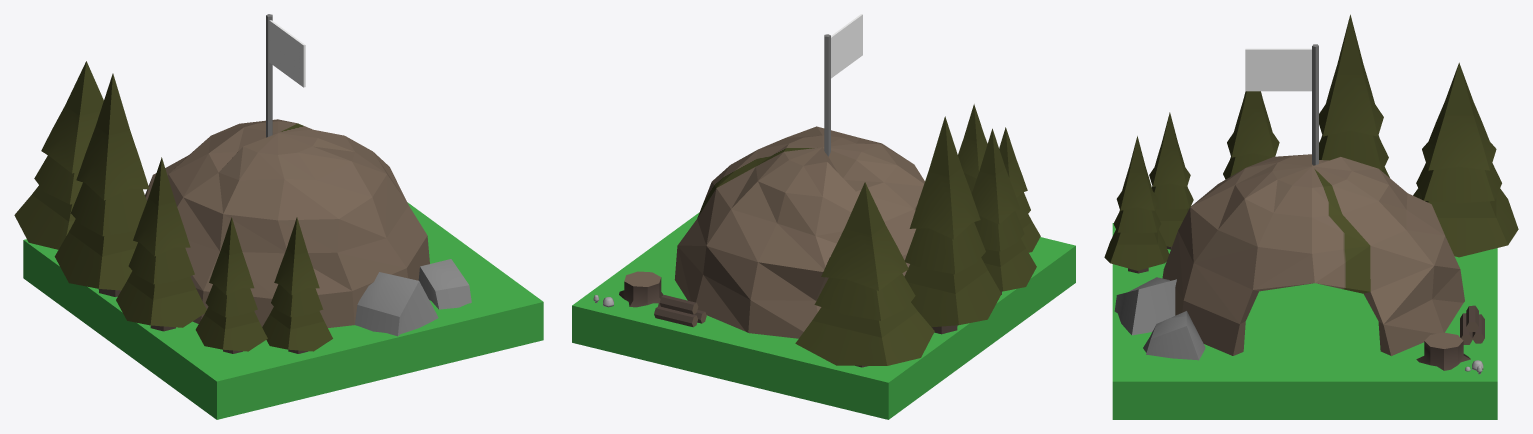
Rendered from Home Piece.fbx.
3 views of the same model, side by side, from view 1: azimuth 30°, elevation 25°; view 2: azimuth 150°, elevation 25°; view 3: azimuth 270°, elevation 25° (orthographic). The views are drawn at different scales.
Parts seen in each view (by area): view 1: Home, Home_Piece, Pine_Tree9, Pine_Tree8, Pine_Tree4, Pine_Tree5, Pine_Tree7, Rock5, Rock4, Flag, Flag_Pole; view 2: Home, Home_Piece, Pine_Tree4, Pine_Tree9, Pine_Tree8, Pine_Tree5, Pine_Tree7, Flag, Stump2, Flag_Pole, pCylinder10, pCylinder12; view 3: Home, Home_Piece, Pine_Tree4, Pine_Tree9, Pine_Tree7, Pine_Tree5, Flag, Pine_Tree8, Rock5, Rock4, Stump2, Flag_Pole.
Part boxes in pixels (box(x1,y1,x2,y2)): Home: box(145, 119, 429, 327); Home_Piece: box(23, 202, 543, 419); Pine_Tree9: box(54, 73, 149, 290); Pine_Tree8: box(116, 157, 206, 327); Pine_Tree4: box(14, 61, 103, 249); Pine_Tree5: box(195, 217, 267, 351); Pine_Tree7: box(262, 217, 332, 351); Rock5: box(355, 272, 438, 336); Rock4: box(418, 259, 471, 309); Flag: box(269, 20, 305, 87); Flag_Pole: box(266, 14, 272, 137); Home: box(674, 126, 924, 338); Home_Piece: box(572, 212, 1075, 419); Pine_Tree4: box(795, 182, 934, 365); Pine_Tree9: box(904, 116, 1001, 327); Pine_Tree8: box(971, 128, 1036, 291); Pine_Tree5: box(999, 127, 1040, 252); Pine_Tree7: box(958, 104, 987, 193); Flag: box(831, 14, 862, 78); Stump2: box(619, 271, 663, 307); Flag_Pole: box(824, 34, 830, 156); pCylinder10: box(654, 306, 697, 327); pCylinder12: box(659, 295, 698, 314); Home: box(1162, 154, 1464, 355); Home_Piece: box(1112, 223, 1497, 419); Pine_Tree4: box(1413, 62, 1518, 257); Pine_Tree9: box(1319, 14, 1389, 177); Pine_Tree7: box(1104, 136, 1169, 270); Pine_Tree5: box(1149, 112, 1193, 246); Flag: box(1245, 48, 1311, 91); Pine_Tree8: box(1223, 91, 1279, 179); Rock5: box(1114, 277, 1176, 335); Rock4: box(1143, 311, 1205, 360); Stump2: box(1416, 332, 1470, 370); Flag_Pole: box(1312, 44, 1318, 165).
Size of the model in its own units: 11.29 by 8.87 by 11.46.
